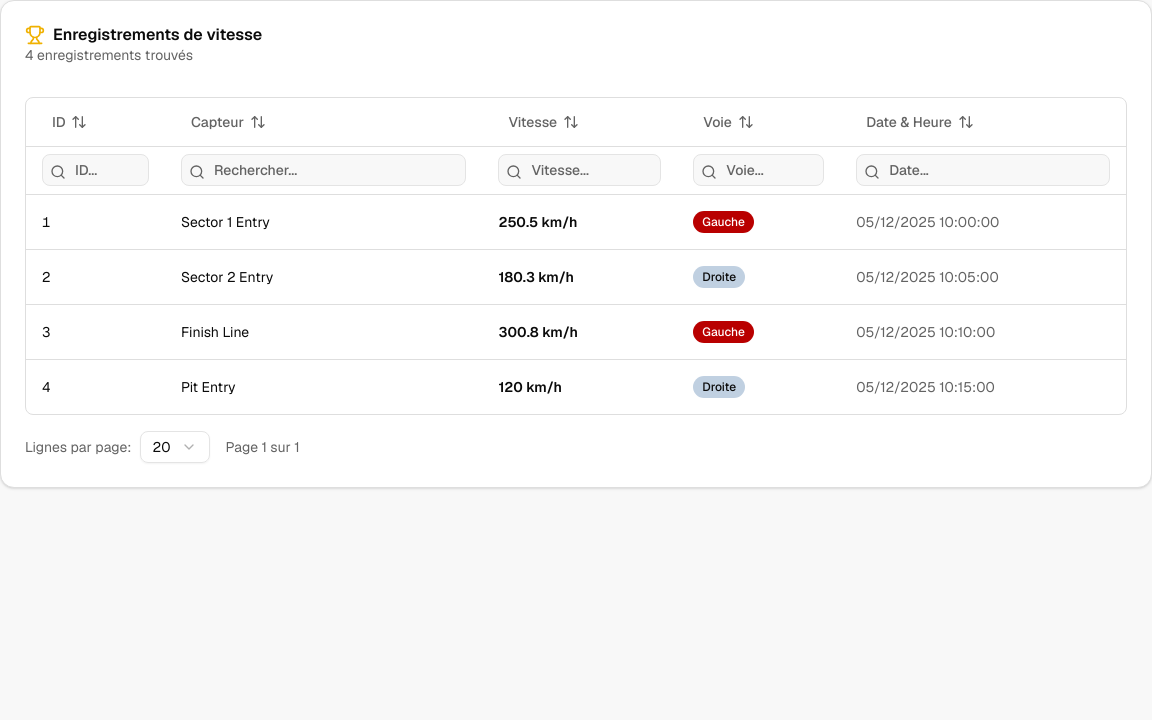
it: SpeedRecords › Filtering › clears all filters when clear button is clicked
Type "1" into the field with placeholder "ID..." at (95, 170), box [42,154,149,186]
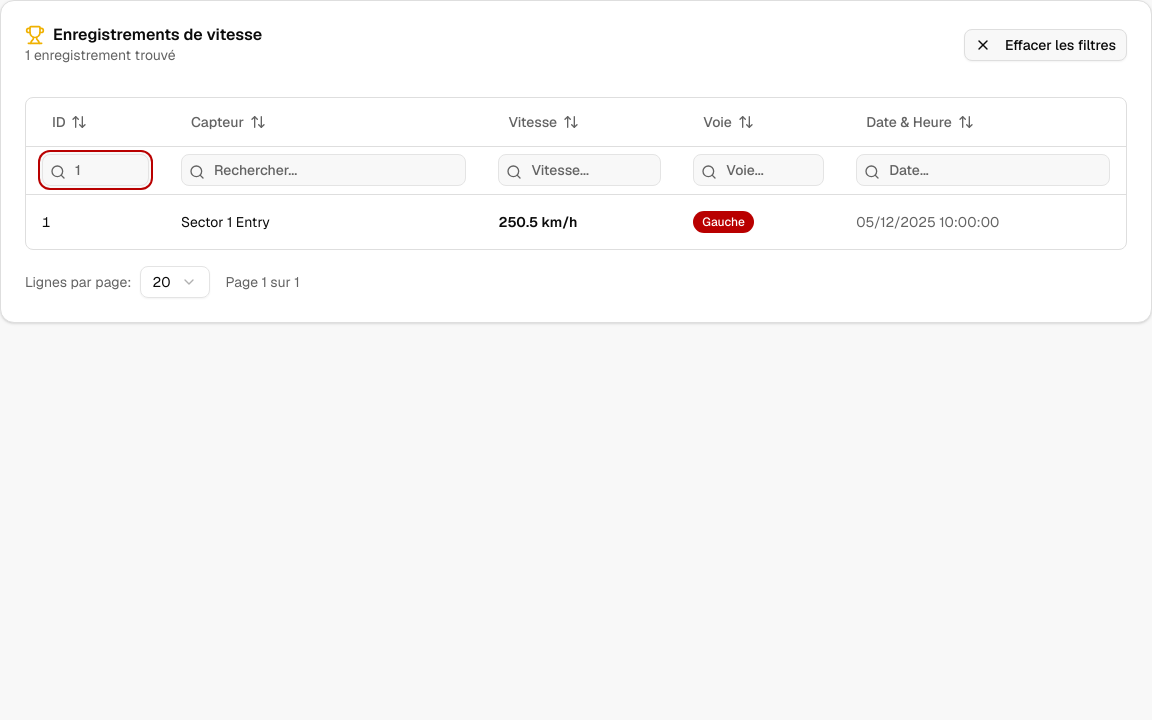
Click the button "Effacer les filtres" at (1045, 45), box [964,29,1127,61]
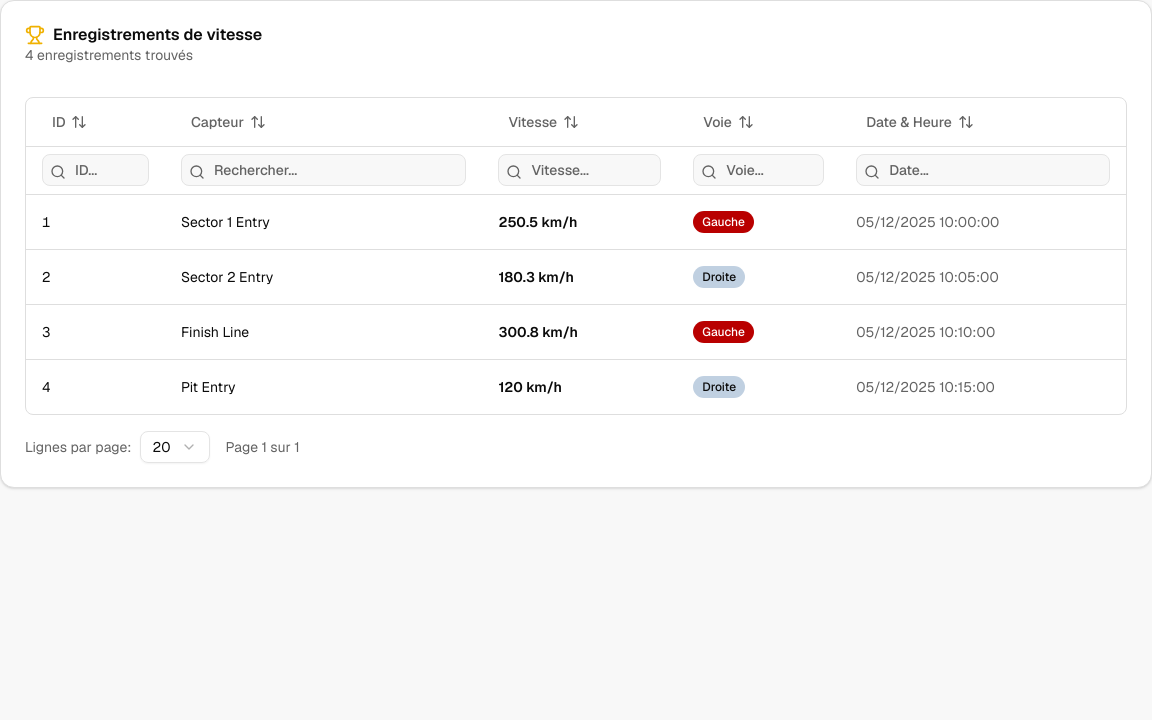
Expected: the text "4 enregistrements trouvés" is shown, [25,46,193,64]
Expected: the field with placeholder "ID..." is empty, [42,154,149,186]
